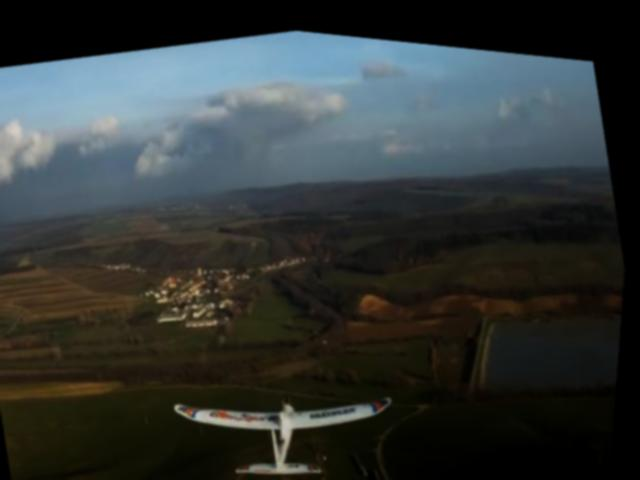iha: (176, 353, 408, 480)
